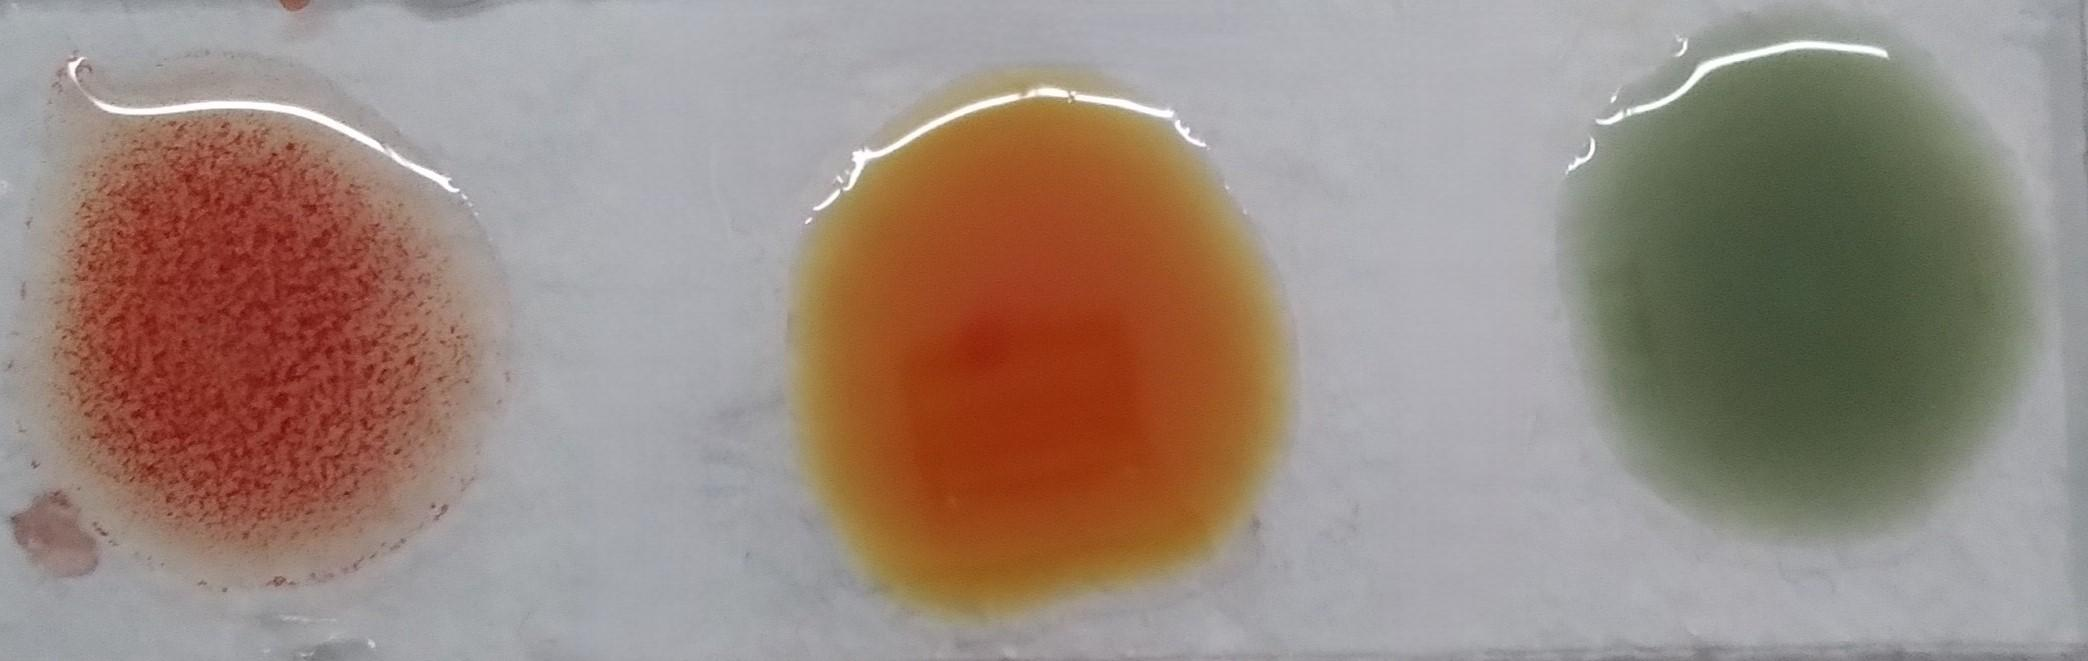D: (28, 60, 501, 582)
